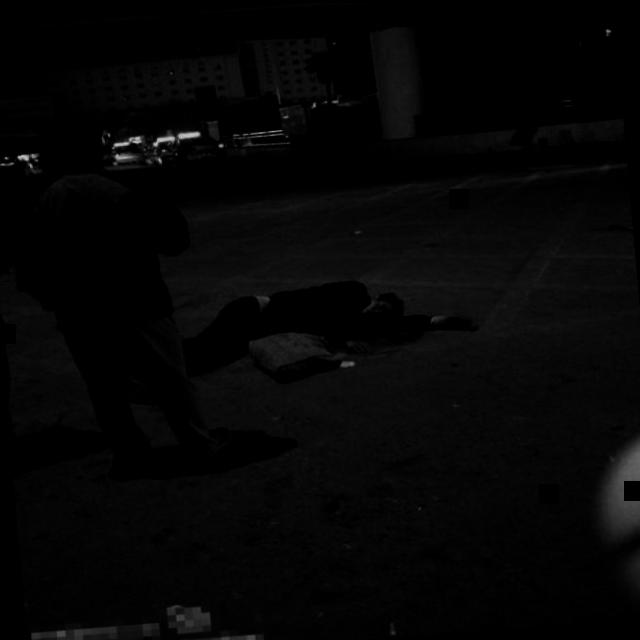Fall-Detected: (128, 249, 488, 373)
